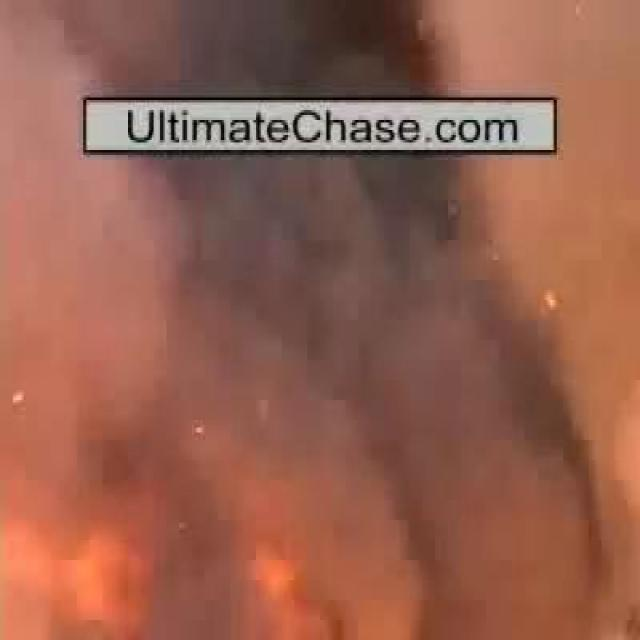Smoke: (136, 160, 554, 542)
